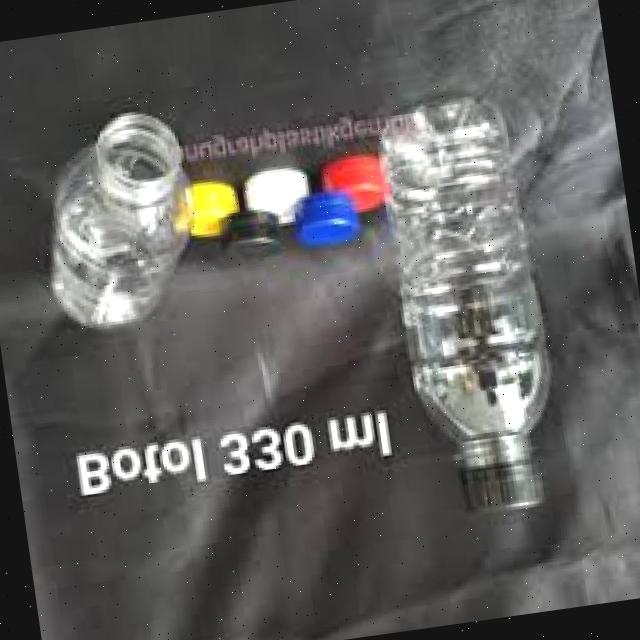bottle: (356, 71, 612, 532), (0, 97, 231, 345)
